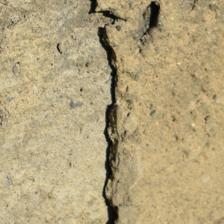Crack: (0, 7, 151, 56), (52, 135, 165, 162)
